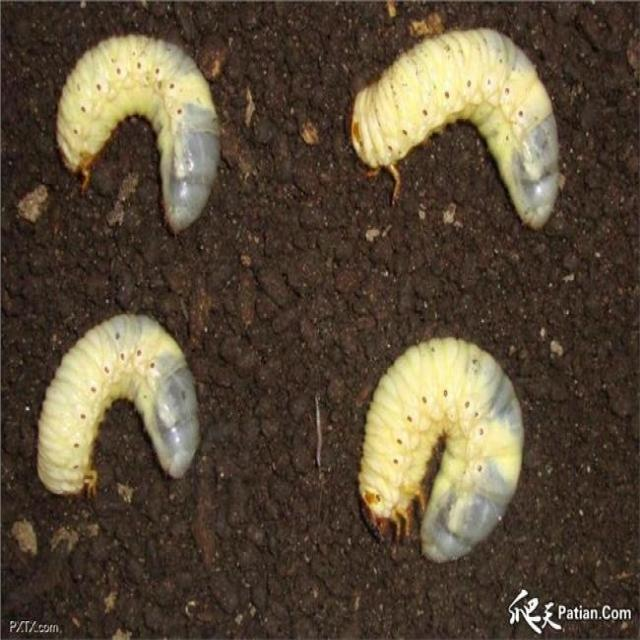grub: (348, 19, 568, 237), (354, 332, 528, 568), (56, 32, 226, 243), (33, 301, 201, 502)
